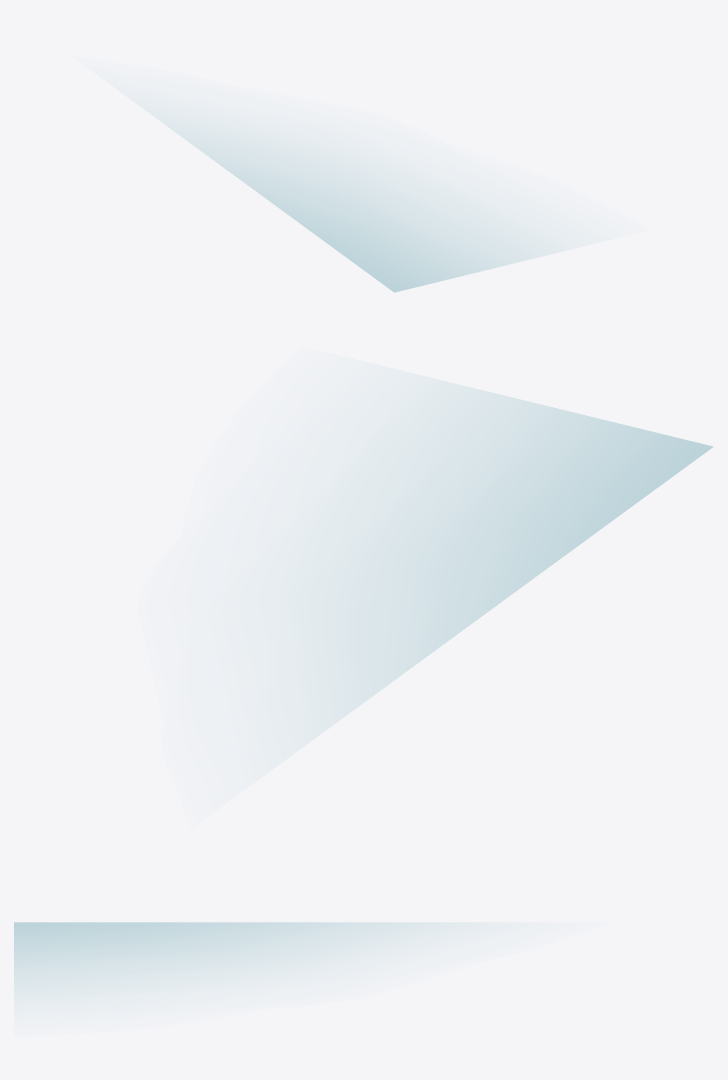
3 views of the same model, one above another, from view 1: azimuth 30°, elevation 25°; view 2: azimuth 150°, elevation 25°; view 3: azimuth 270°, elevation 25° (orthographic). The views are drawn at different scales.
Parts seen in each view (by area): view 1: city; view 2: city; view 3: city.
Boxes of the visible parts, x1=… form: city: x1=156, y1=117, x2=552, y2=292; city: x1=314, y1=384, x2=713, y2=727; city: x1=14, y1=922, x2=451, y2=993.
Bounding box in the file's own units: 198 × 0 × 409.
